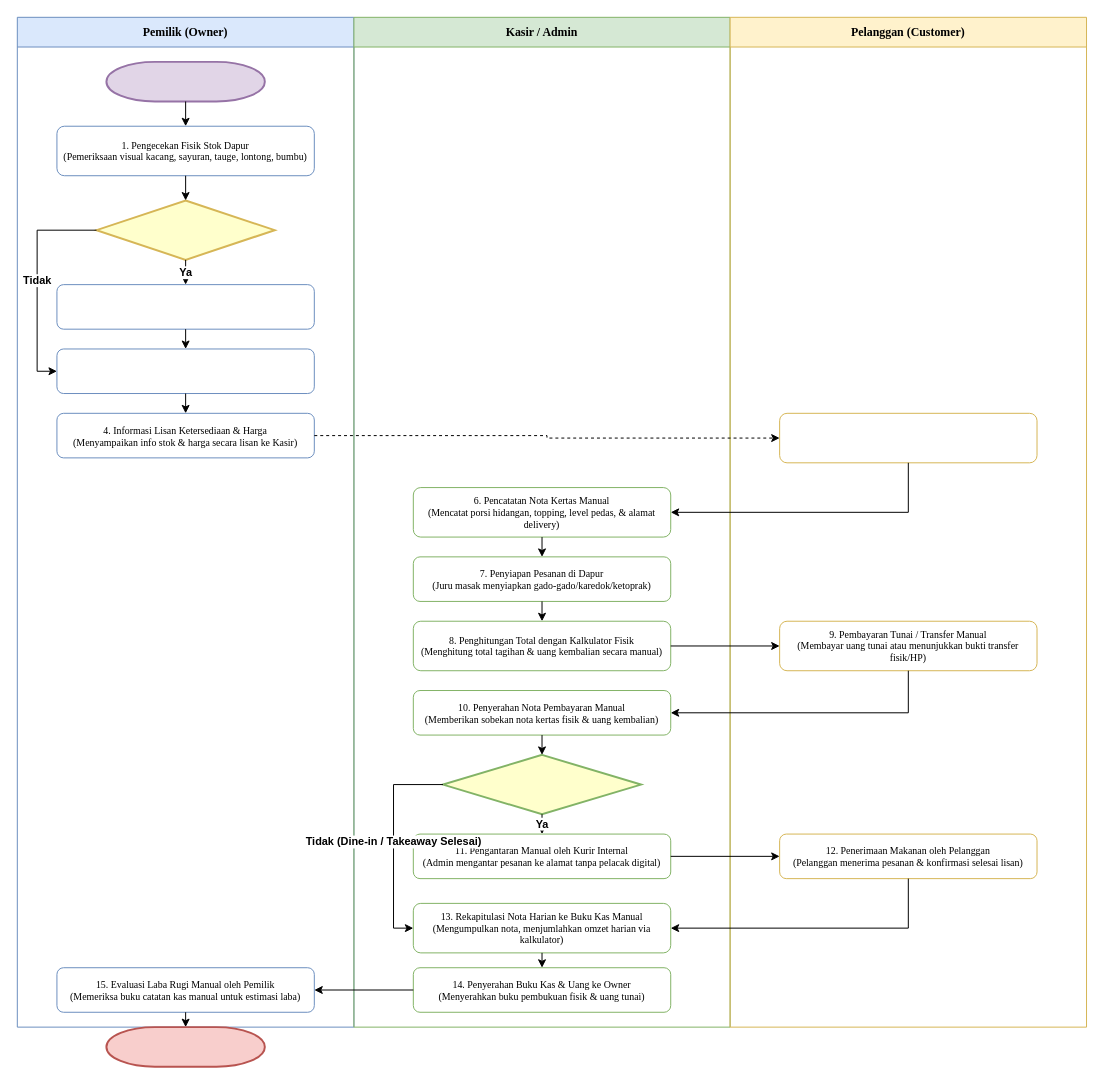
Image size: 1104x1085. Some labels were removed from this diagram. Each missing label, with the centre of its shape:
2. Catat Kertas Memo & Belanja (Membeli bahan baku fisik di pasar lokal/pemasok): (185,306)
3. Manajemen Menu & Harga (Pembaruan harga/menu fisik di papan tulis / kertas): (185,371)
5. Pemesanan Menu (Dine-in/Takeaway di warung atau via Chat WA untuk Delivery): (908,437)
Apakah Ada Bahan Habis / Menipis?: (185,229)
Apakah Jenis Pesanan Pesan Antar (Delivery)?: (542,784)
Mulai Operasional: (185,81)
Selesai Operasional: (185,1046)
